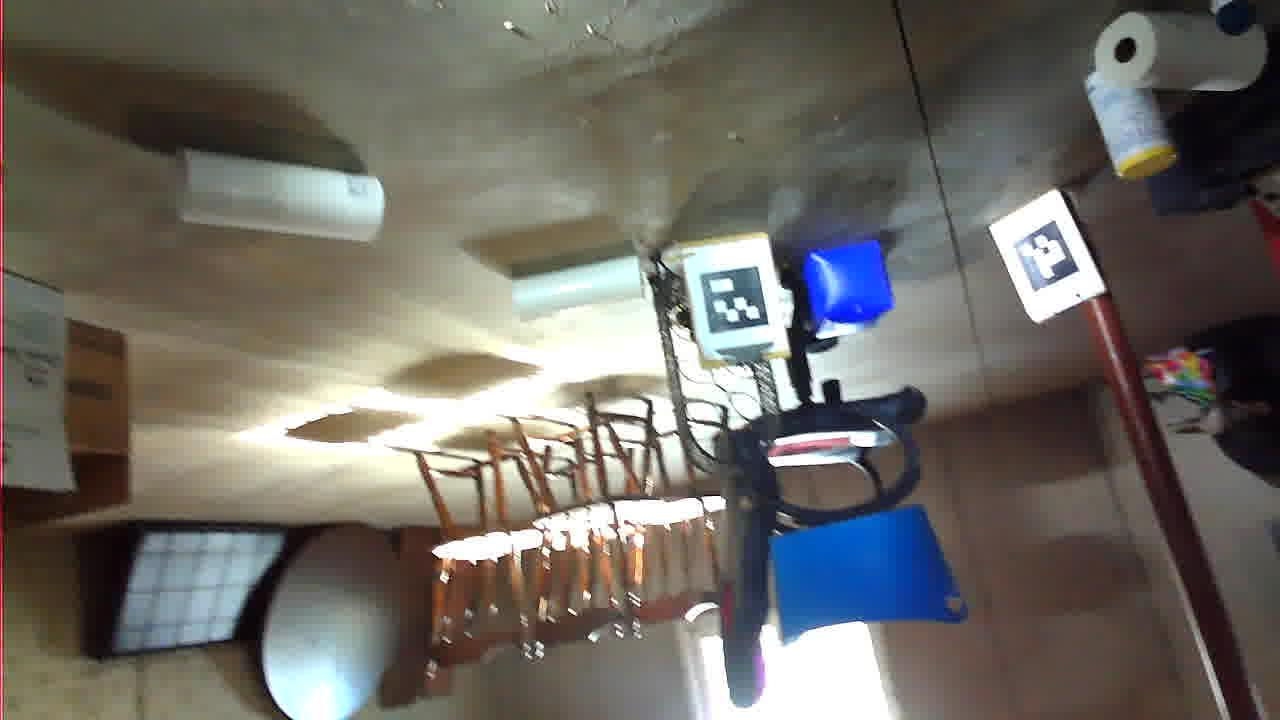coral: (896, 482, 1105, 577), (639, 399, 766, 465)
